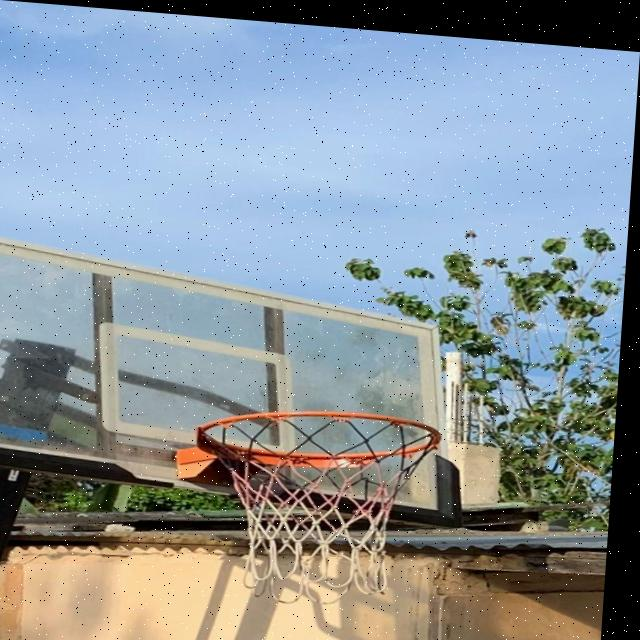hoop: (181, 386, 468, 609)
